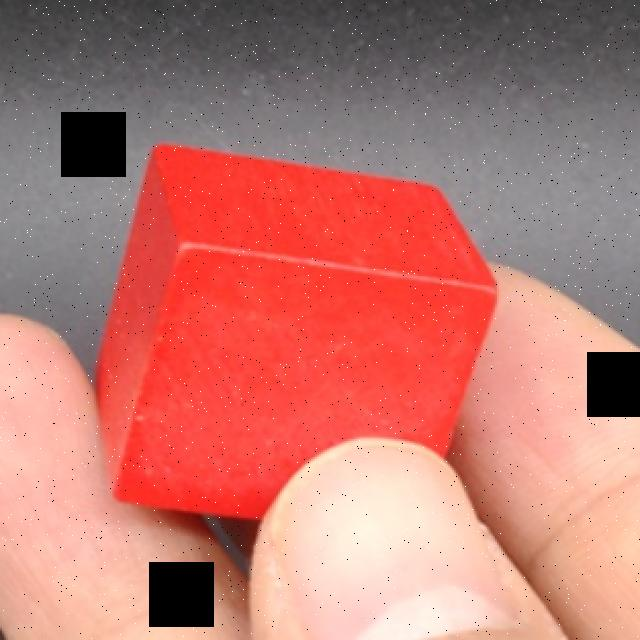red cube: (94, 143, 501, 527)
